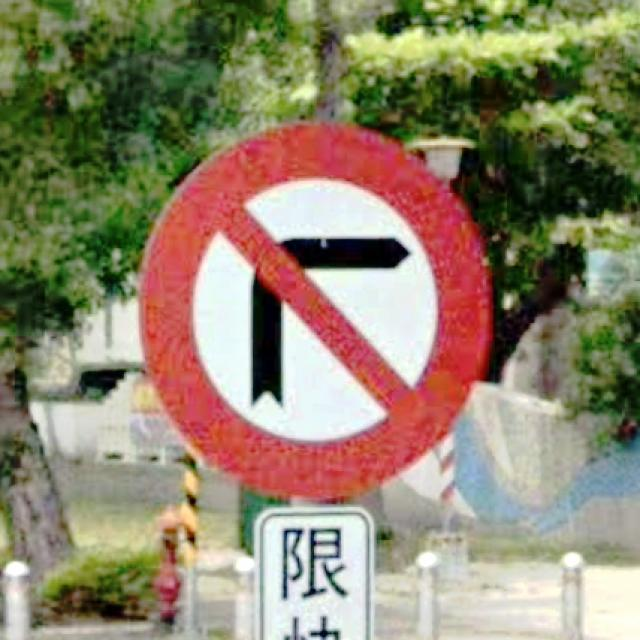noturnright: (139, 124, 490, 499)
